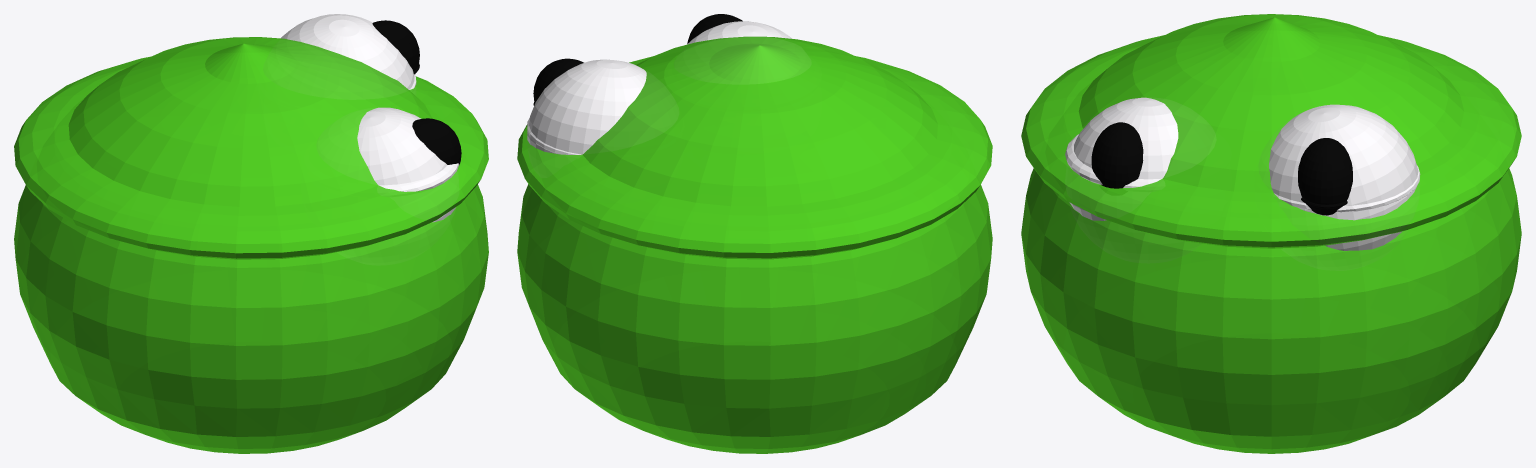
Rendered from blob.dae.
3 views of the same model, side by side, from view 1: azimuth 30°, elevation 25°; view 2: azimuth 150°, elevation 25°; view 3: azimuth 270°, elevation 25° (orthographic). The views are drawn at different scales.
Visible parts, largest first — view 1: blob, flat blob; view 2: blob, flat blob; view 3: blob, flat blob.
Boxes of the visible parts, box(x1,y1,x2,y2) form: blob: box(14, 14, 488, 453); flat blob: box(14, 56, 488, 259); blob: box(517, 14, 992, 453); flat blob: box(517, 56, 992, 259); blob: box(1021, 14, 1521, 453); flat blob: box(1021, 35, 1521, 248).
Size of the model in its own units: 12 by 12 by 9.87.
